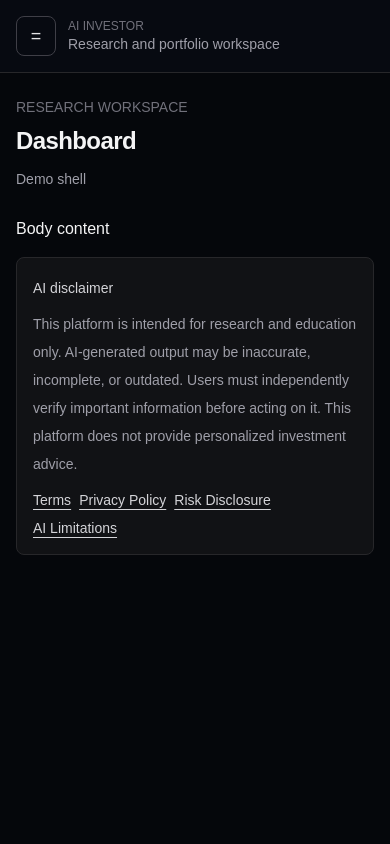
Test: DashboardLayoutContent › opens and closes the mobile drawer
Click the button named "open navigation menu".
click(36, 36)  # box [16,16,56,56]
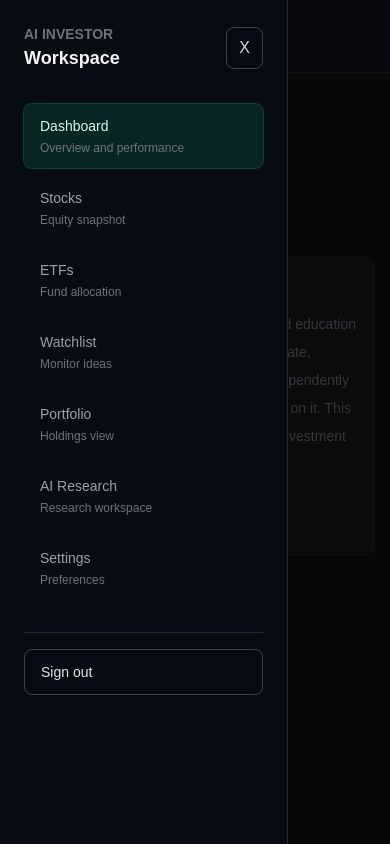
Expected: the button named "open navigation menu" is expanded, [16,16,56,56]
Click the button named "close navigation menu".
click(245, 48)  # box [226,27,263,69]
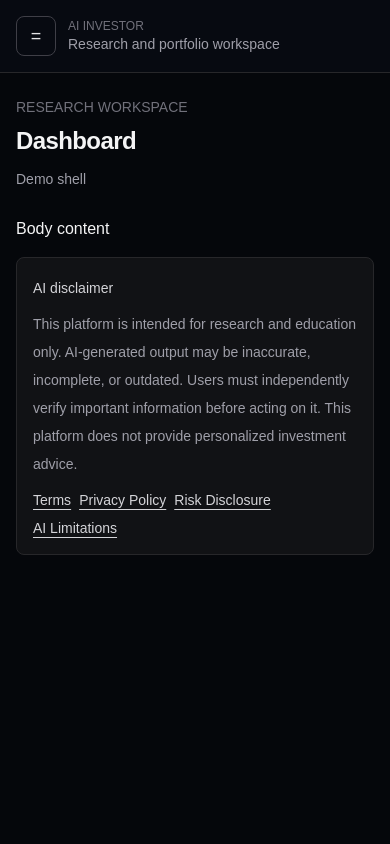
Expected: the button named "open navigation menu" is collapsed, [16,16,56,56]
